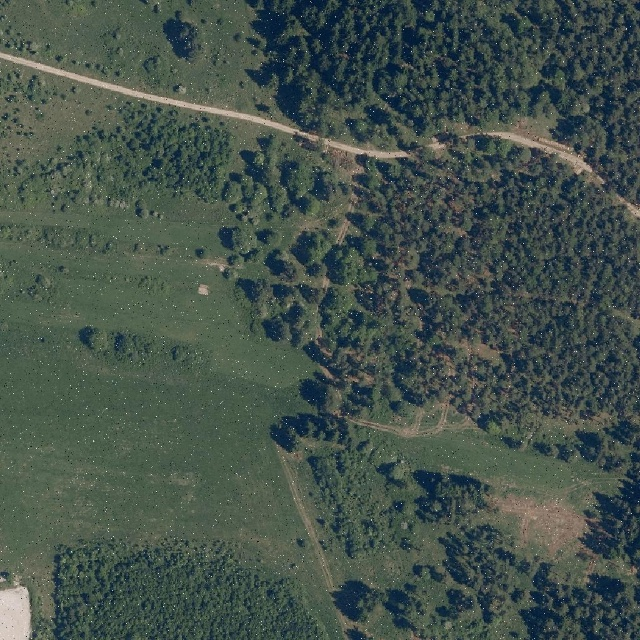vegetation: (21, 107, 640, 466), (252, 0, 640, 208), (344, 462, 640, 640), (284, 411, 494, 556), (53, 546, 330, 640)
